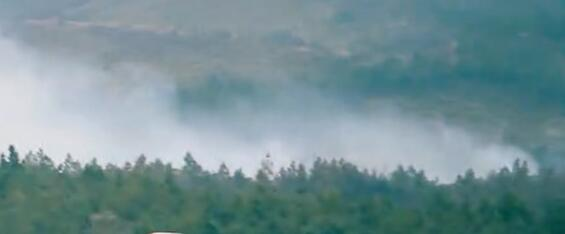smoke: (0, 29, 537, 181)
